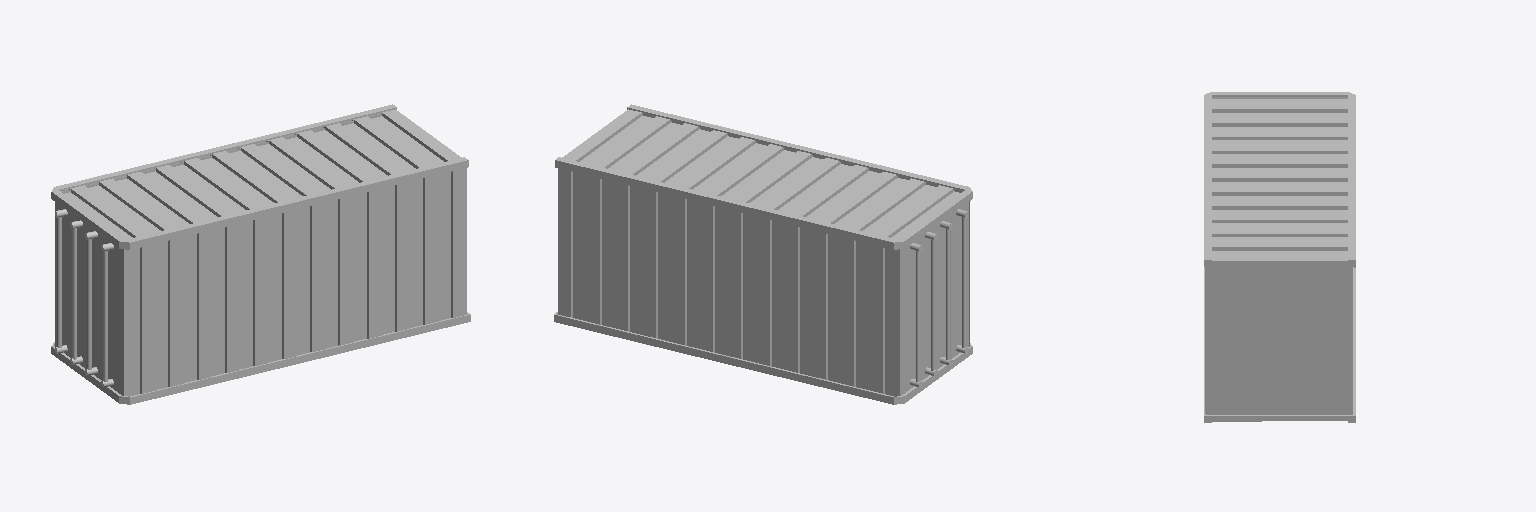
File: container.obj
3 views of the same model, side by side, from view 1: azimuth 30°, elevation 25°; view 2: azimuth 150°, elevation 25°; view 3: azimuth 270°, elevation 25° (orthographic).
Parts seen in each view (by area): view 1: Cube, Cube.002, Cube.007_Cube.008, Cube.008_Cube.013, Cube.005_Cube.011, Cube.006_Cube.012, Cylinder.006_Cylinder.007, Cylinder.000_Cylinder.003, Cylinder.005_Cylinder.006, Cylinder.002; view 2: Cube.001, Cube.002, Cube.007_Cube.008, Cube.006_Cube.012, Cube.005_Cube.011, Cube.008_Cube.013, Cylinder.006_Cylinder.007, Cylinder.005_Cylinder.006, Cylinder.000_Cylinder.003; view 3: Cube.002, Cube.004, Cube.007_Cube.008, Cube.005_Cube.011, Cube.001, Cube.
Boxes of the visible parts, <box> form: Cube: <box>125,168,466,396</box>; Cube.002: <box>65,109,461,239</box>; Cube.007_Cube.008: <box>51,104,468,249</box>; Cube.008_Cube.013: <box>89,227,124,395</box>; Cube.005_Cube.011: <box>51,312,470,404</box>; Cube.006_Cube.012: <box>55,202,88,368</box>; Cylinder.006_Cylinder.007: <box>103,251,107,381</box>; Cylinder.000_Cylinder.003: <box>72,228,76,359</box>; Cylinder.005_Cylinder.006: <box>87,239,91,369</box>; Cylinder.002: <box>57,217,61,347</box>; Cube.001: <box>558,168,899,396</box>; Cube.002: <box>562,109,960,239</box>; Cube.007_Cube.008: <box>555,104,972,249</box>; Cube.006_Cube.012: <box>900,228,933,395</box>; Cube.005_Cube.011: <box>554,312,972,404</box>; Cube.008_Cube.013: <box>934,202,968,369</box>; Cylinder.006_Cylinder.007: <box>962,217,966,347</box>; Cylinder.005_Cylinder.006: <box>946,229,950,359</box>; Cylinder.000_Cylinder.003: <box>931,240,935,370</box>; Cube.002: <box>1210,99,1347,264</box>; Cube.004: <box>1209,263,1348,414</box>; Cube.007_Cube.008: <box>1204,92,1355,267</box>; Cube.005_Cube.011: <box>1204,267,1355,422</box>; Cube.001: <box>1349,264,1352,414</box>; Cube: <box>1205,266,1208,414</box>.
Bounding box in the file's own units: 9.33 × 4.09 × 3.48.